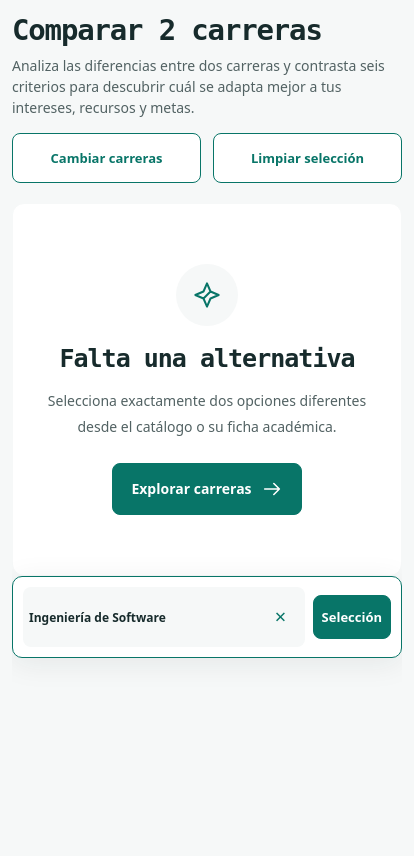
Test case: Comparación HU04 › muestra selección incompleta y permite quitar opciones
Expected: the heading "Falta una alternativa" is shown, top-left (37, 341), bottom-right (377, 378)
Click the button named "Quitar ": (281, 617) top-left (263, 595), bottom-right (299, 639)
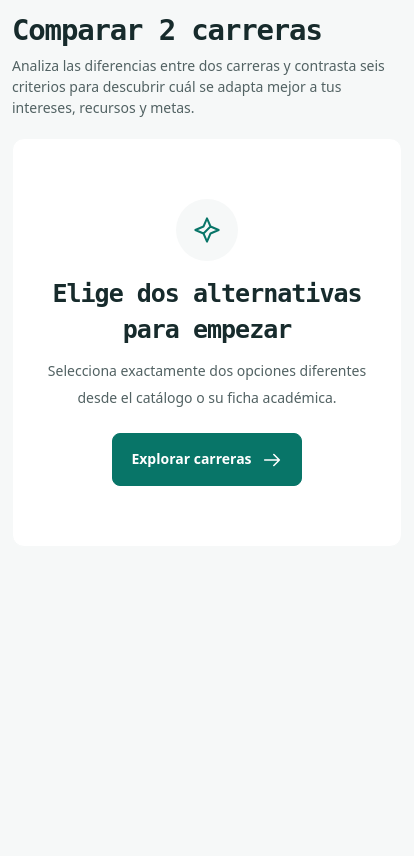
Now the heading "Elige dos alternativas para empezar" is shown, box top-left (37, 276), bottom-right (377, 348)
